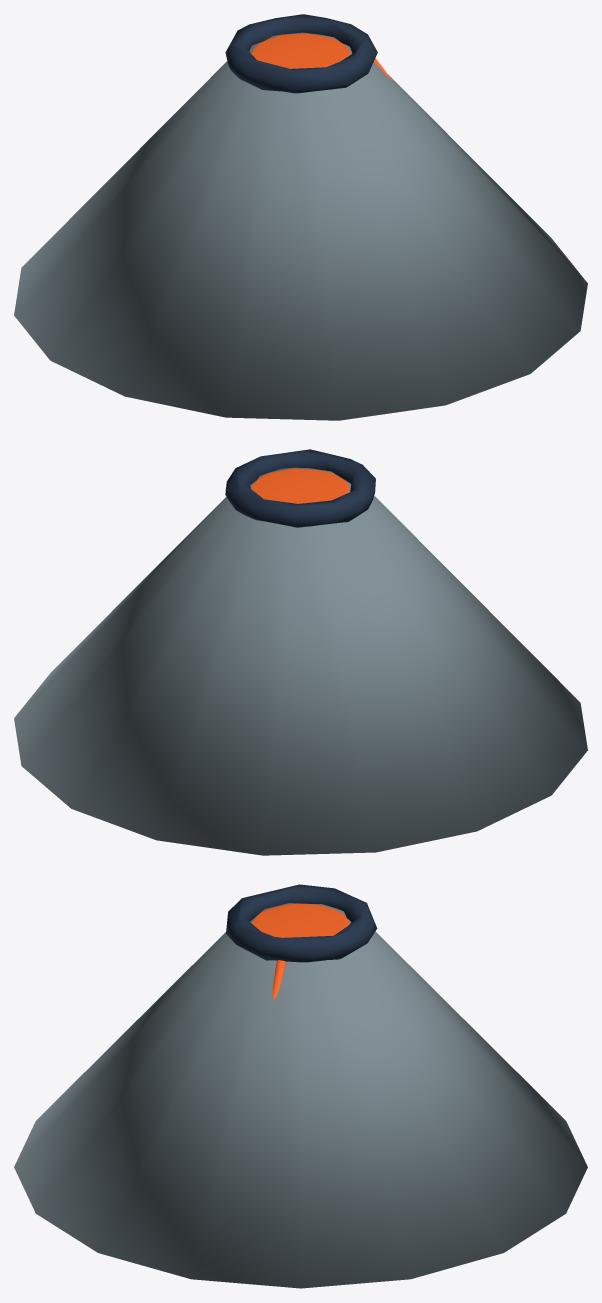
File: Volcano_LOD2.glb
3 views of the same model, one above another, from view 1: azimuth 30°, elevation 25°; view 2: azimuth 150°, elevation 25°; view 3: azimuth 270°, elevation 25° (orthographic).
Visible parts, largest first — view 1: Volcanic cone, Crater rim, Lava pool; view 2: Volcanic cone, Crater rim, Lava pool; view 3: Volcanic cone, Crater rim, Lava pool.
Boxes of the visible parts, x1,y1,x2,y2 form: Volcanic cone: [14, 32, 587, 420]; Crater rim: [225, 14, 377, 93]; Lava pool: [251, 33, 350, 68]; Volcanic cone: [14, 467, 587, 855]; Crater rim: [225, 449, 375, 527]; Lava pool: [251, 468, 349, 503]; Volcanic cone: [14, 903, 587, 1288]; Crater rim: [226, 884, 377, 962]; Lava pool: [252, 903, 349, 937].
Size of the model in its own units: 6 by 2.93 by 6.
